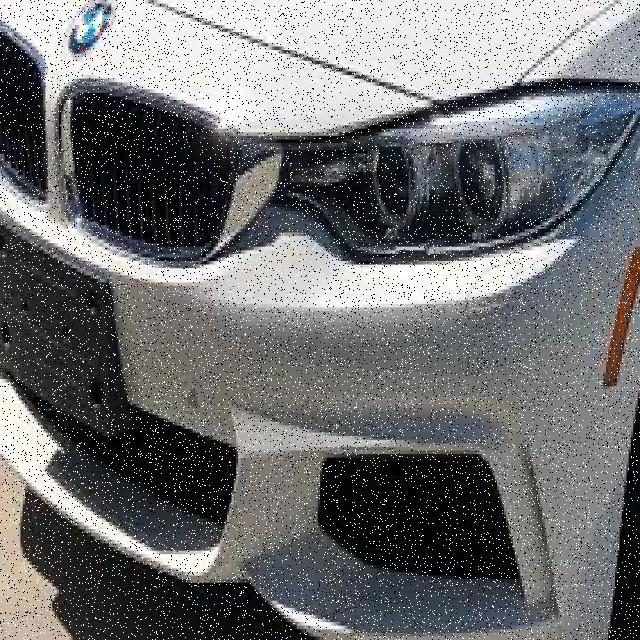front-bumper-dent: (272, 254, 628, 633)
